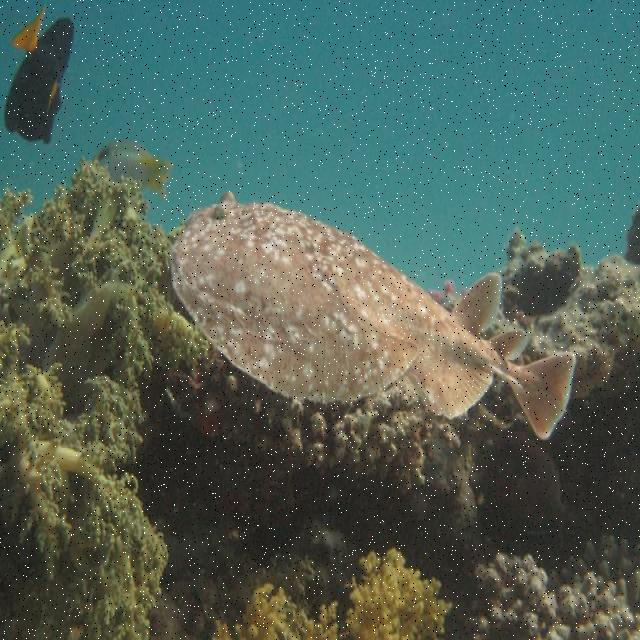fish: (170, 202, 575, 437), (4, 9, 74, 144), (94, 141, 172, 198)
sea-floor: (0, 164, 639, 639)
